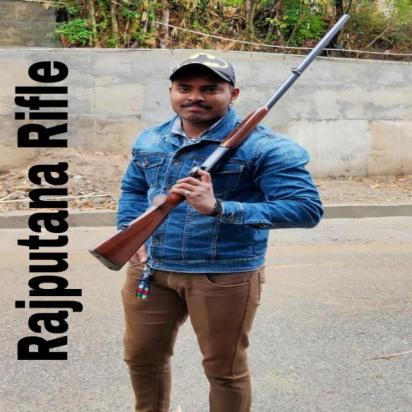Gun: (85, 13, 354, 273)
